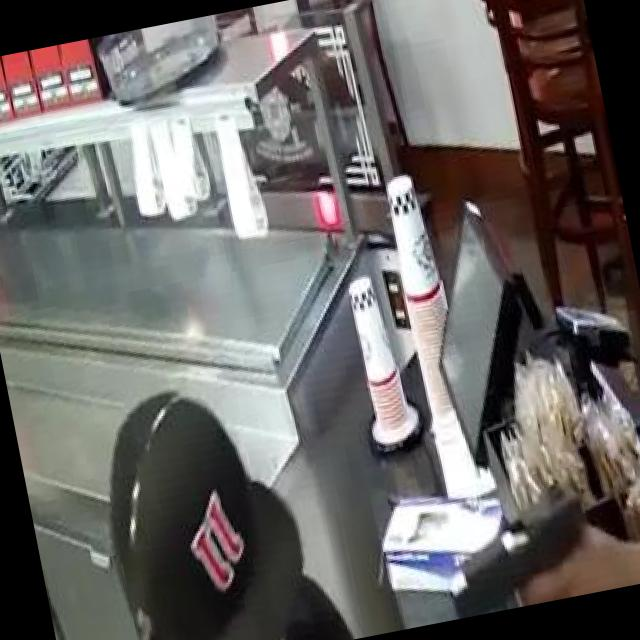Guns: (410, 451, 640, 624)
